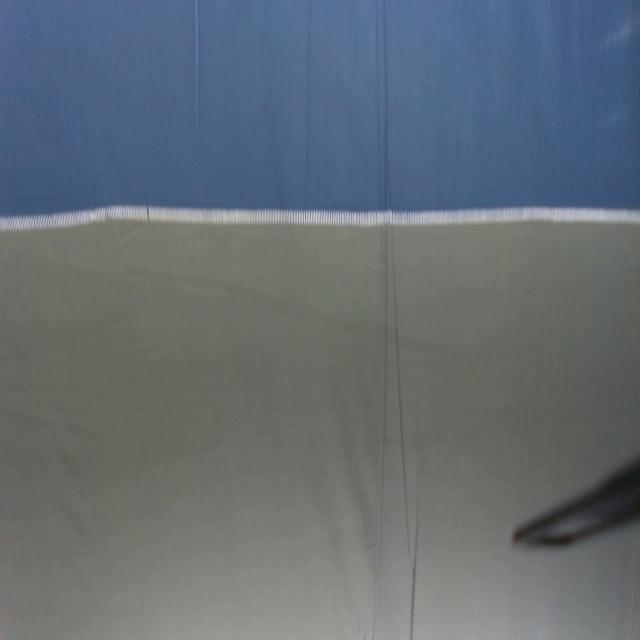crease: (389, 227, 419, 640), (372, 226, 388, 640), (374, 0, 388, 205), (192, 2, 205, 126), (306, 0, 314, 194)
